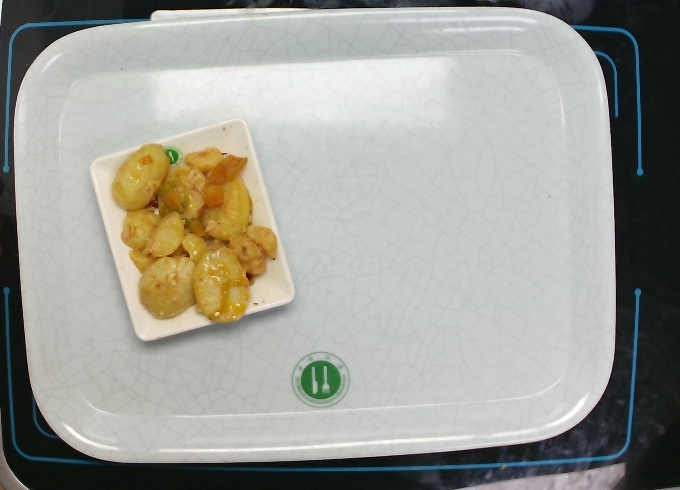WCQzf-Bai_Se_Si_Fang_Die: (87, 109, 294, 338)
